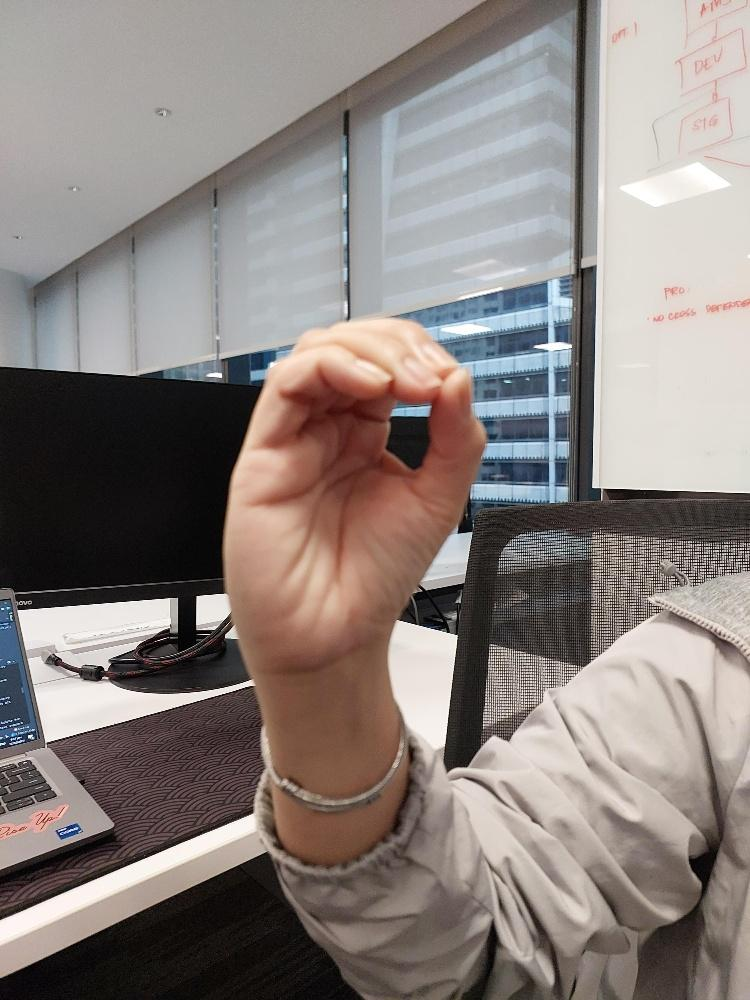o: (220, 317, 490, 667)
